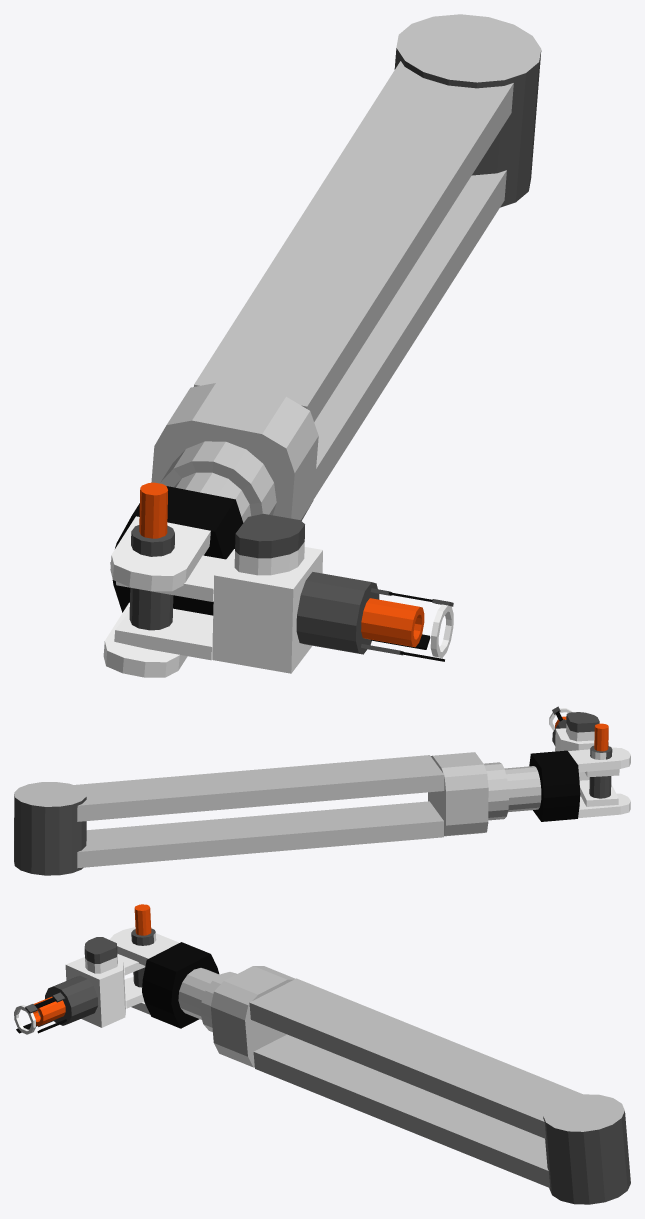
Rendered from rover_brazo_2.obj.
3 views of the same model, one above another, from view 1: azimuth 30°, elevation 25°; view 2: azimuth 150°, elevation 25°; view 3: azimuth 270°, elevation 25° (orthographic). The views are drawn at different scales.
Parts seen in each view (by area): view 1: rover_brazo_2; view 2: rover_brazo_2; view 3: rover_brazo_2.
Boxes of the visible parts, <box> form: rover_brazo_2: <box>103,14,541,677</box>; rover_brazo_2: <box>14,706,630,875</box>; rover_brazo_2: <box>14,904,630,1204</box>.
Bounding box in the file's own units: 3.9 × 0.7927 × 4.51.
